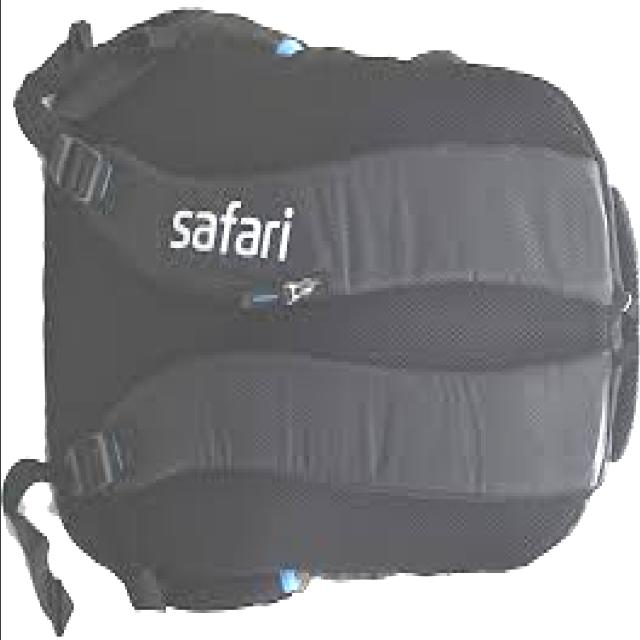backpack: (6, 5, 640, 631)
